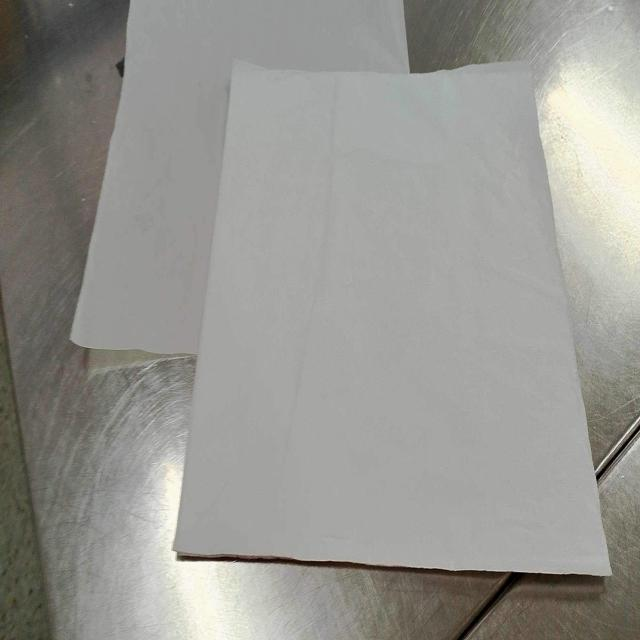Infectious: (171, 56, 614, 576)
Sharps: (451, 412, 640, 638)
